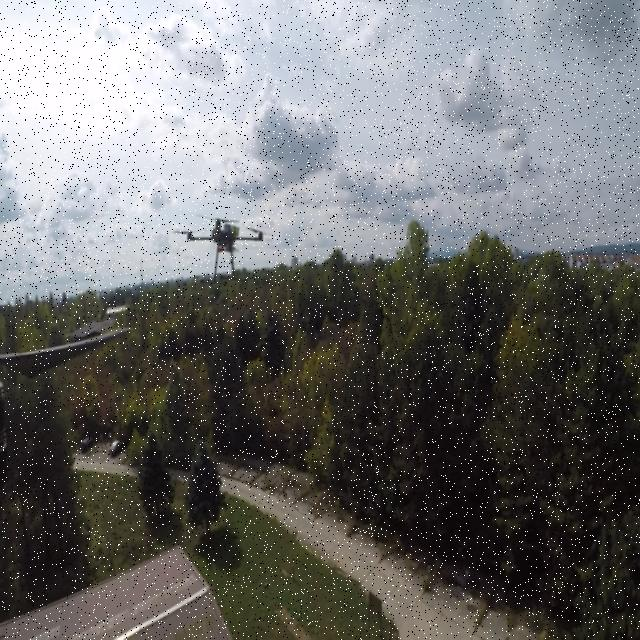UAV: (173, 212, 273, 287)
